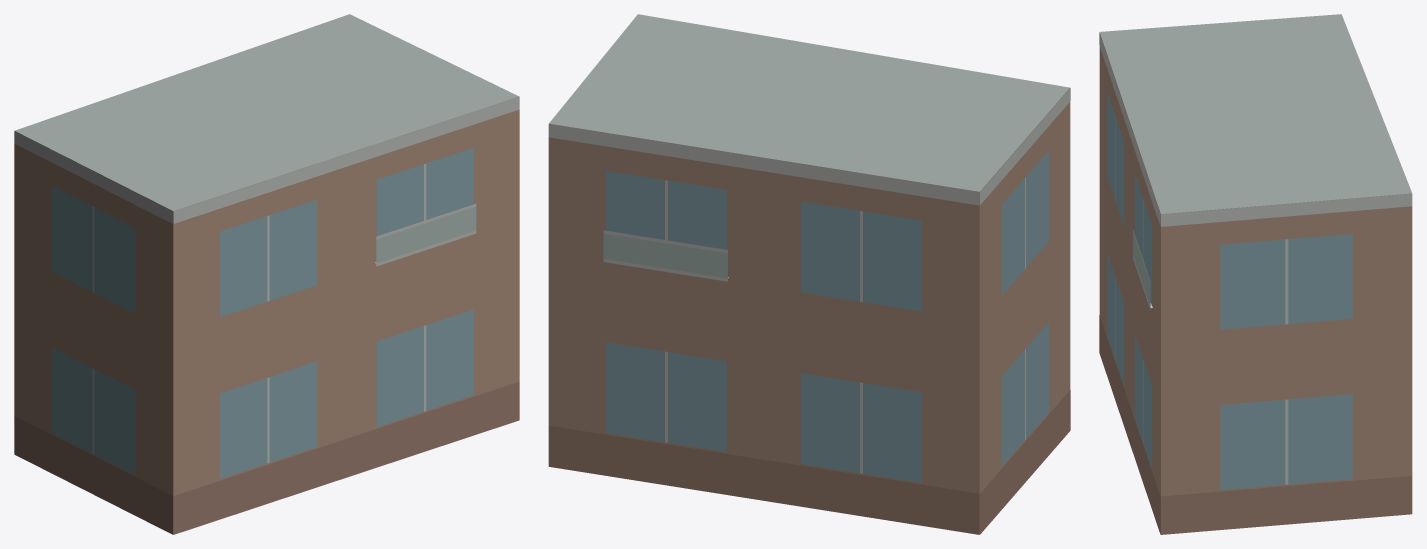
The model's file is survey-upis-32921091.glb.
3 views of the same model, side by side, from view 1: azimuth 30°, elevation 25°; view 2: azimuth 150°, elevation 25°; view 3: azimuth 270°, elevation 25° (orthographic). The views are drawn at different scales.
Visible parts, largest first — view 1: survey-upis-32921091.tmp; view 2: survey-upis-32921091.tmp; view 3: survey-upis-32921091.tmp.
Part boxes in pixels (x1,y1,x2,y2): survey-upis-32921091.tmp: (14, 14, 519, 534); survey-upis-32921091.tmp: (548, 14, 1070, 534); survey-upis-32921091.tmp: (1099, 14, 1412, 534).
Size of the model in its own units: 8.17 by 6.1 by 5.41.
